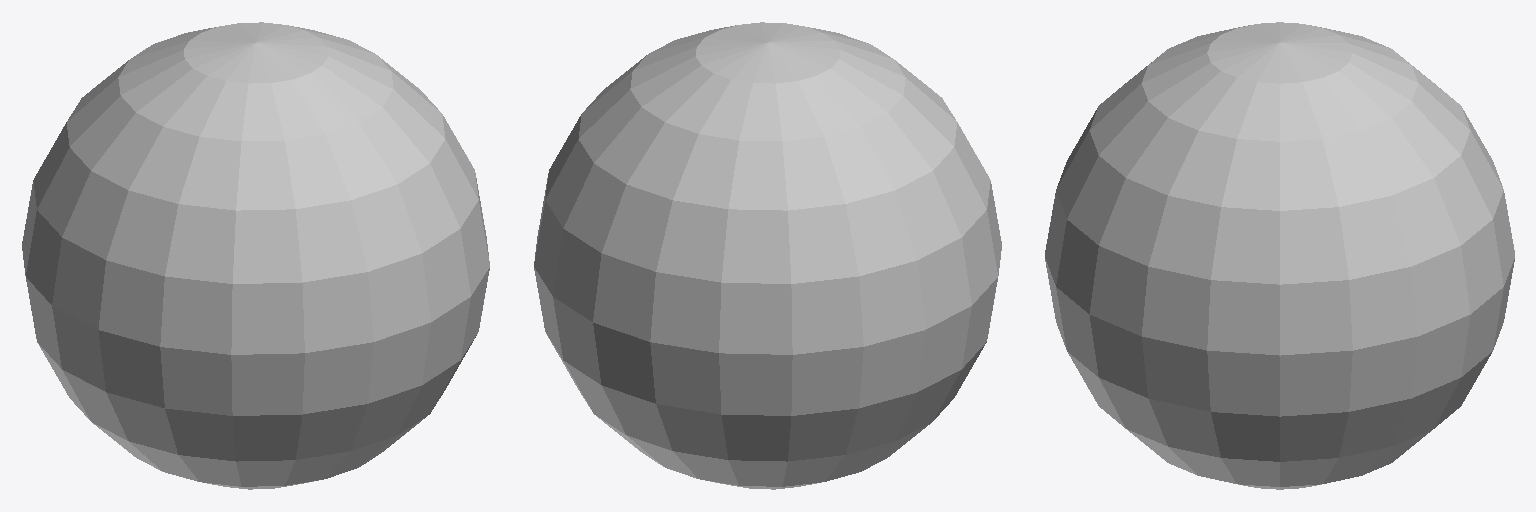
Rendered from ball.obj.
3 renders of one model, left to right at view 1: azimuth 30°, elevation 25°; view 2: azimuth 150°, elevation 25°; view 3: azimuth 270°, elevation 25°, orthographic.
Parts seen in each view (by area): view 1: pSphere1; view 2: pSphere1; view 3: pSphere1.
Boxes of the visible parts, box(x1,y1,x2,y2) form: pSphere1: box(22, 22, 489, 489); pSphere1: box(534, 22, 1001, 489); pSphere1: box(1045, 22, 1514, 489).
Bounding box in the file's own units: 0.5 × 0.5 × 0.5.